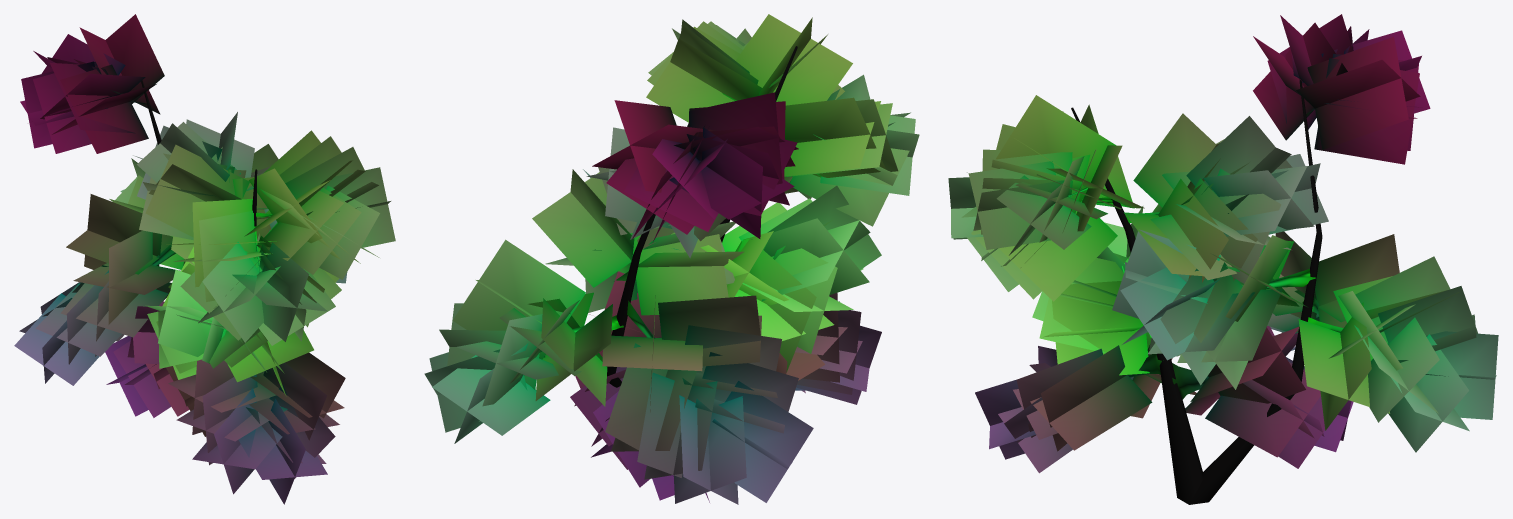
File: URP_P14_Tree_10_LOD_3.fbx
The picture shows the model from 3 angles, left to right: view 1: azimuth 30°, elevation 25°; view 2: azimuth 150°, elevation 25°; view 3: azimuth 270°, elevation 25°; orthographic projection. The views are drawn at different scales.
Parts seen in each view (by area): view 1: Tree_10_LOD_3; view 2: Tree_10_LOD_3; view 3: Tree_10_LOD_3.
Boxes of the visible parts, box(x1,y1,x2,y2) form: Tree_10_LOD_3: box(14, 14, 395, 504); Tree_10_LOD_3: box(424, 14, 919, 504); Tree_10_LOD_3: box(948, 14, 1498, 504).
Size of the model in its own units: 367 by 463 by 561.
